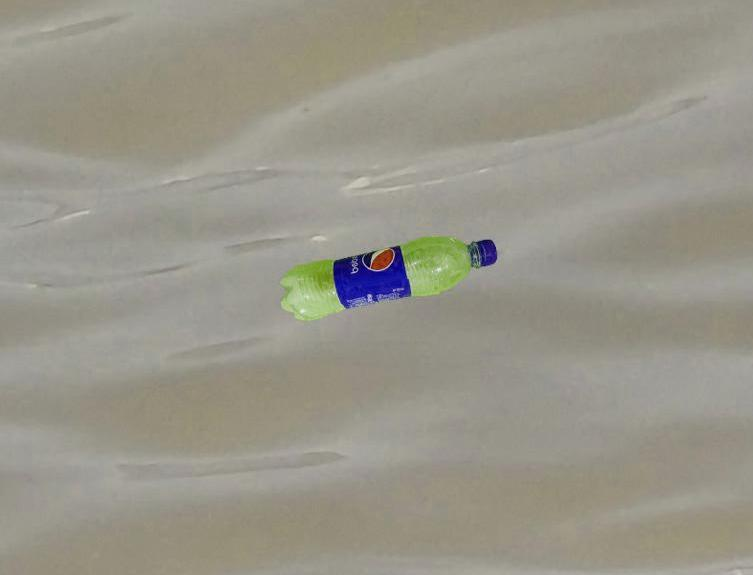Plastic: (277, 229, 500, 326)
